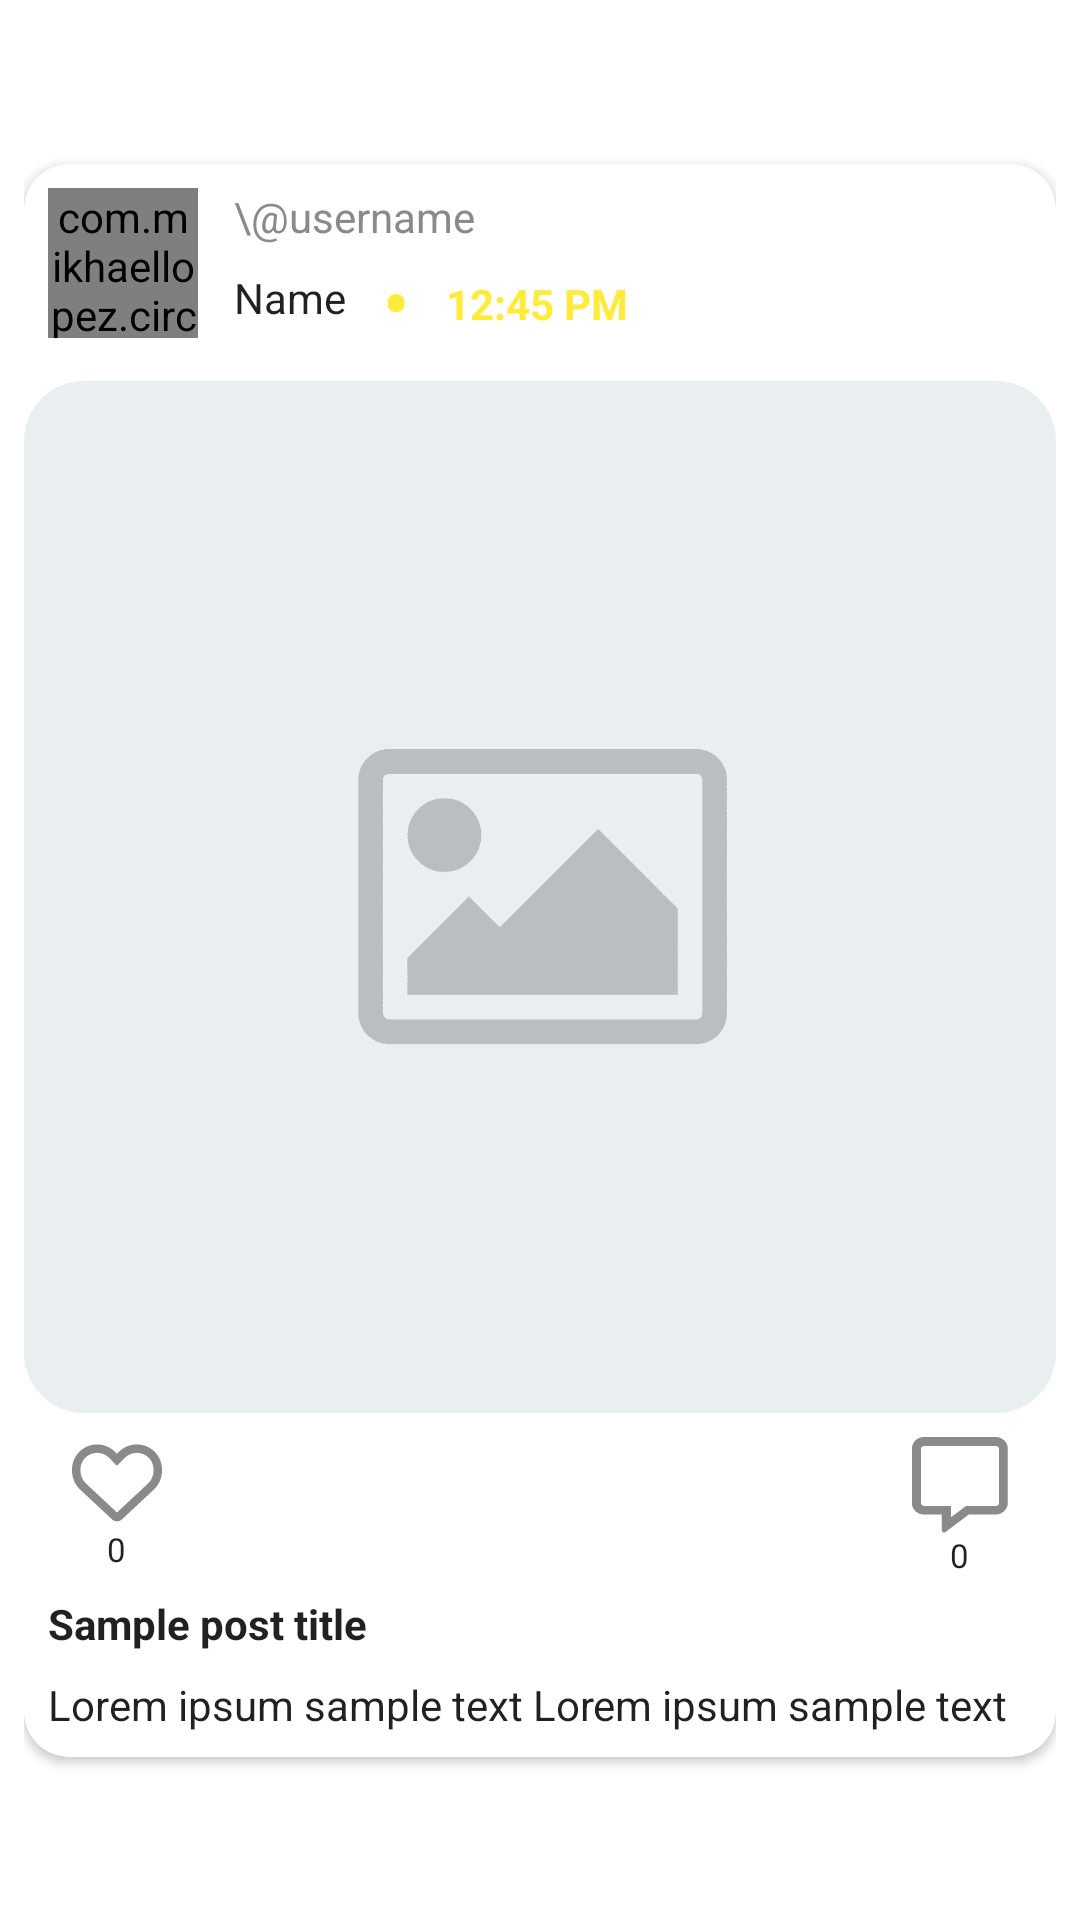

Screen size 1080*1920. Icon name, then its center in pixels as point (x, y):
comment: point (960, 1485)
like: point (117, 1483)
